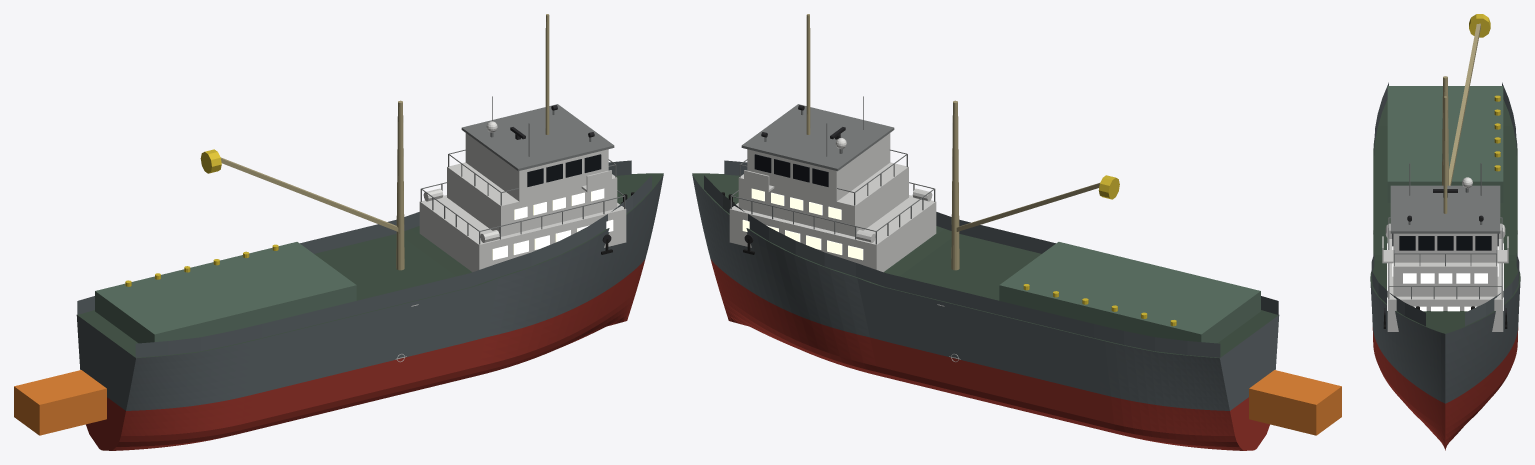
The model's file is seiner45.glb.
The picture shows the model from 3 angles, left to right: view 1: azimuth 30°, elevation 25°; view 2: azimuth 150°, elevation 25°; view 3: azimuth 270°, elevation 25°; orthographic projection. The views are drawn at different scales.
Visible parts, largest first — view 1: seiner45; view 2: seiner45; view 3: seiner45.
Boxes of the visible parts, left/top/right/bottom form: seiner45: left=14, top=14, right=663, bottom=450; seiner45: left=692, top=14, right=1341, bottom=450; seiner45: left=1370, top=14, right=1520, bottom=450.
Size of the model in its own units: 52 by 25.4 by 10.94.
